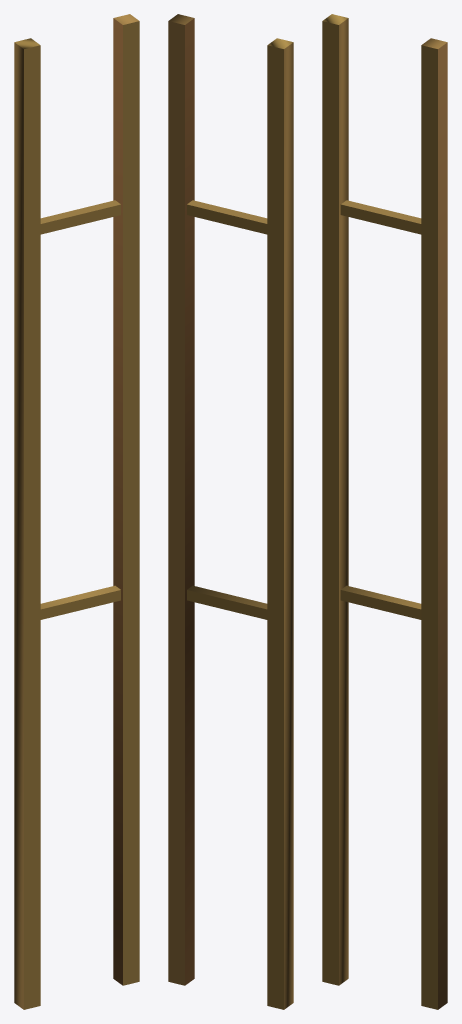
The model's file is apoc_prop_26.glb.
3 renders of one model, left to right at view 1: azimuth 30°, elevation 25°; view 2: azimuth 150°, elevation 25°; view 3: azimuth 330°, elevation 25°, orthographic.
Visible parts, largest first — view 1: prop_027; view 2: prop_027; view 3: prop_027.
Part boxes in pixels (x1,y1,x2,y2): prop_027: (14, 14, 139, 1009); prop_027: (168, 14, 293, 1009); prop_027: (322, 14, 447, 1009).
Size of the model in its own units: 0.1383 by 1.1 by 0.02.
1 material, 1 textured.
